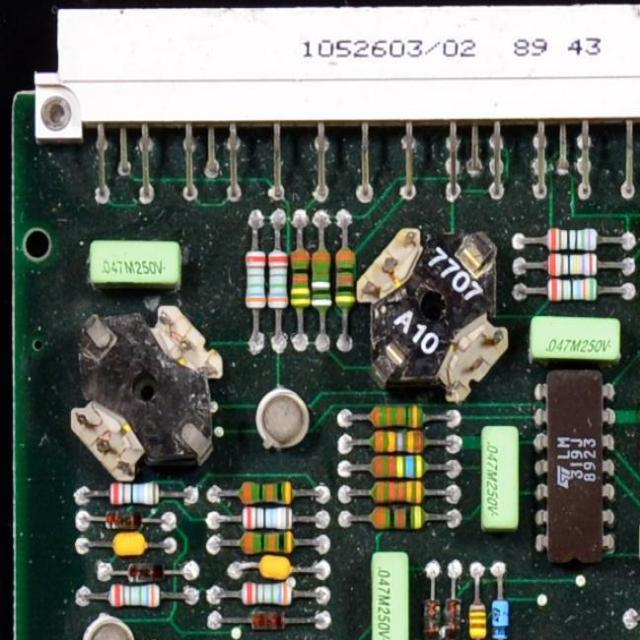capacitor: (73, 530, 180, 557), (218, 558, 334, 582)
resistor: (73, 479, 200, 510), (239, 222, 267, 348), (342, 404, 464, 432), (210, 482, 330, 510), (341, 507, 464, 532), (313, 217, 334, 361), (513, 228, 636, 252), (513, 256, 633, 280), (204, 582, 331, 604), (270, 215, 292, 341), (200, 534, 332, 555), (514, 281, 638, 303), (344, 480, 457, 504), (80, 586, 202, 608), (336, 217, 355, 357), (344, 458, 470, 479), (207, 510, 331, 531), (342, 432, 461, 452), (296, 220, 308, 360), (490, 562, 508, 640), (470, 563, 488, 640), (621, 602, 640, 628)
